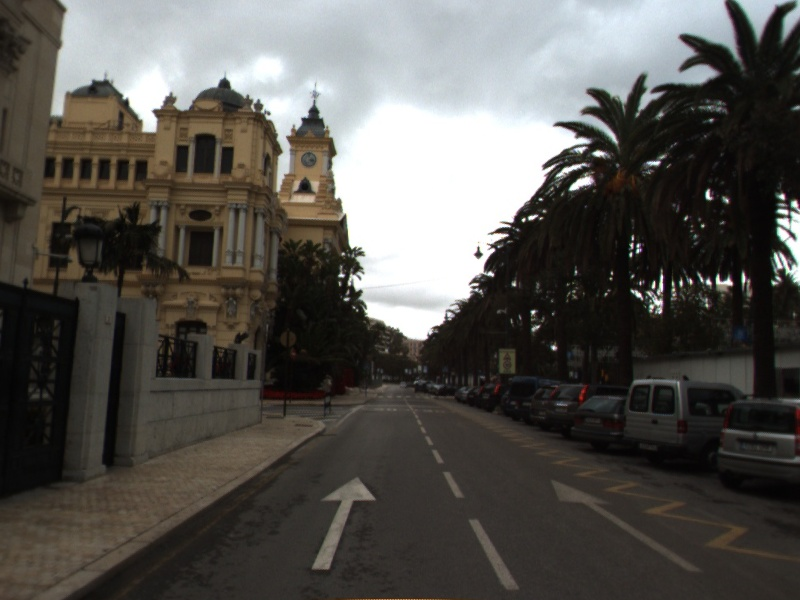STRAIGHT: (549, 477, 706, 575), (310, 475, 378, 571)
